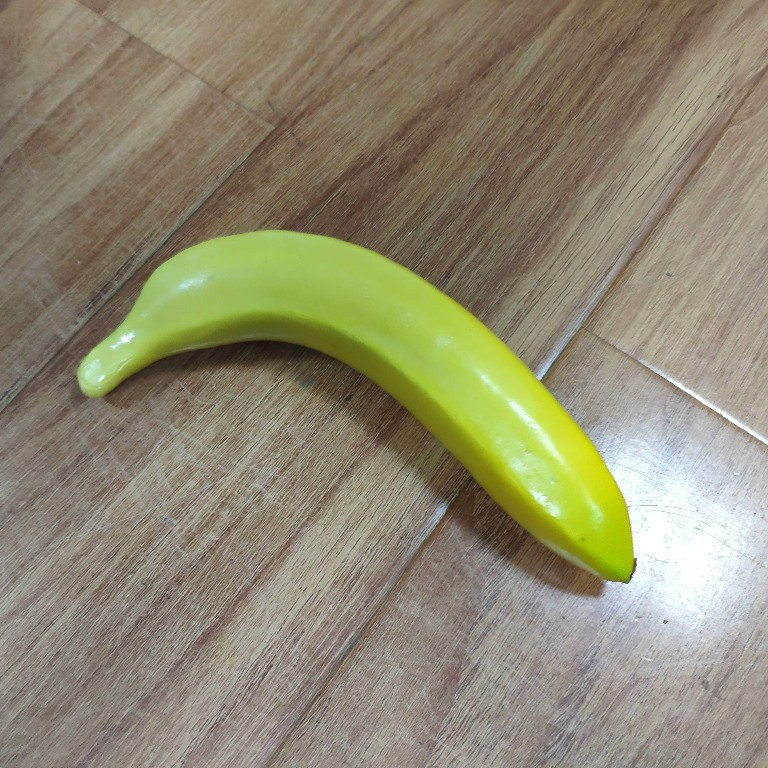fruit_banana: (70, 225, 641, 584)
